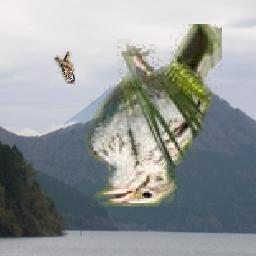Sparrow: (84, 25, 222, 208), (55, 52, 76, 85)
